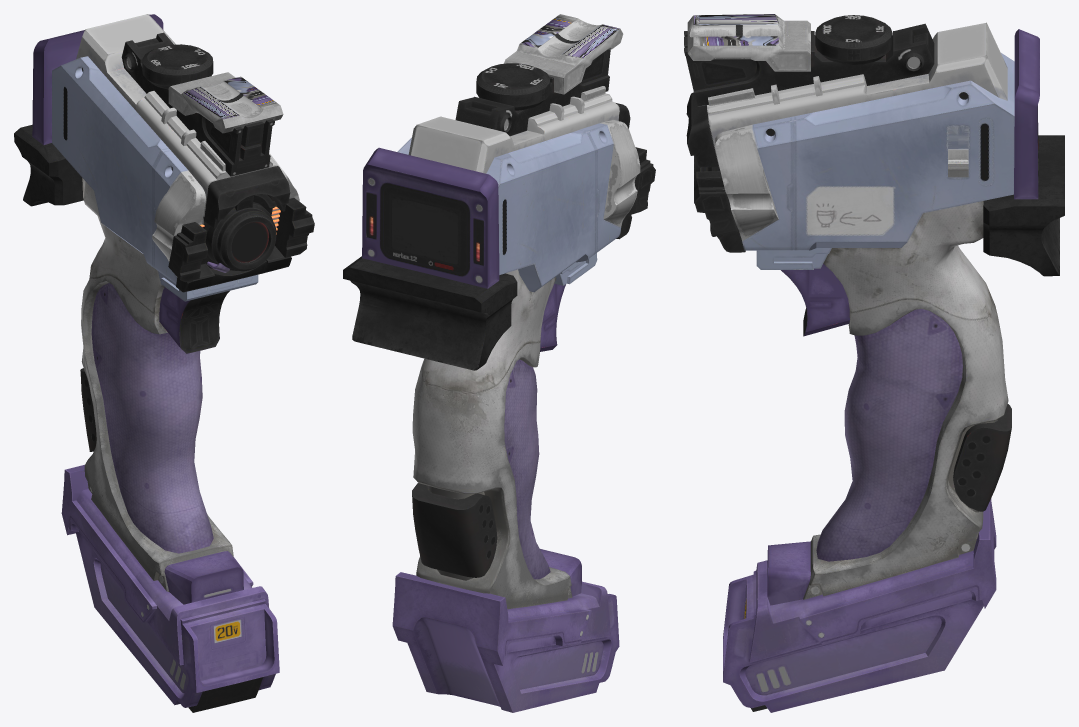
File: scanner.fbx
The picture shows the model from 3 angles, left to right: view 1: azimuth 30°, elevation 25°; view 2: azimuth 150°, elevation 25°; view 3: azimuth 270°, elevation 25°; orthographic projection. The views are drawn at different scales.
Visible parts, largest first — view 1: Body_Low, Scroller_Low, Reticle_Low.003; view 2: Body_Low, Scroller_Low; view 3: Body_Low, Scroller_Low, Switch_Low.
Boxes of the visible parts, left/top/right/bottom form: Body_Low: left=14, top=14, right=314, bottom=712; Scroller_Low: left=142, top=44, right=213, bottom=89; Reticle_Low.003: left=231, top=221, right=268, bottom=262; Body_Low: left=343, top=14, right=655, bottom=712; Scroller_Low: left=476, top=63, right=550, bottom=110; Body_Low: left=684, top=14, right=1064, bottom=712; Scroller_Low: left=815, top=15, right=892, bottom=64; Switch_Low: left=948, top=149, right=968, bottom=177.
Bounding box in the file's own units: 7.95 × 35.09 × 18.18.
Materials: 1 (1 with a texture image).
